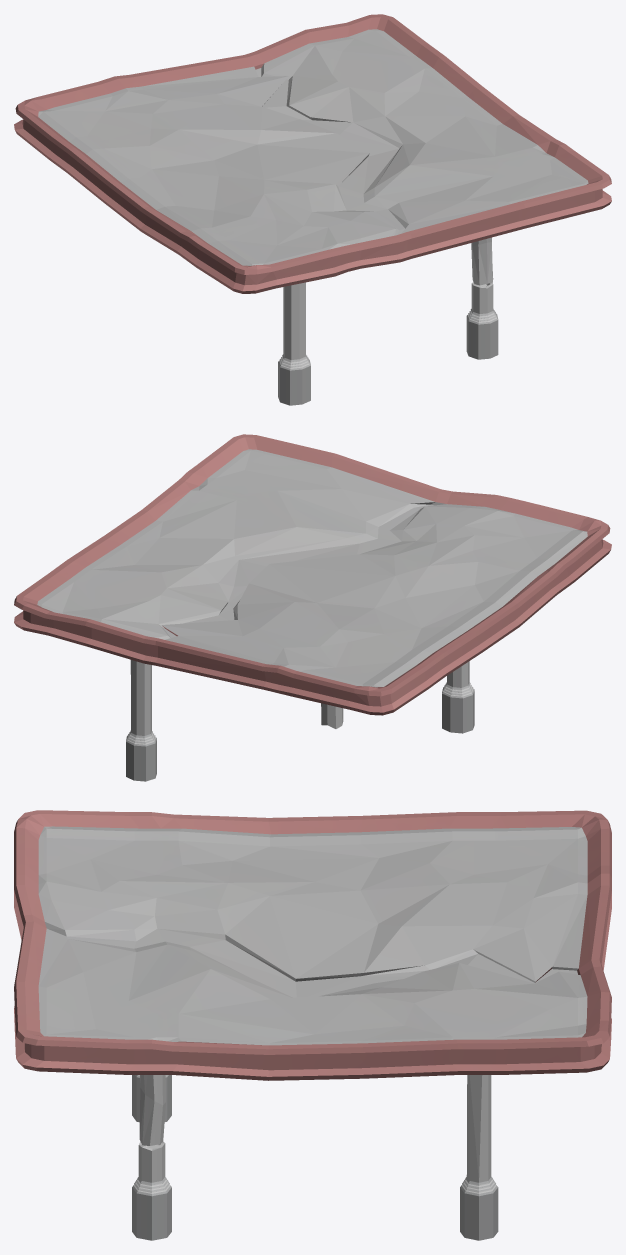
The model's file is gas_station_annex_roof_standing.obj.
3 renders of one model, top to bottom at view 1: azimuth 30°, elevation 25°; view 2: azimuth 150°, elevation 25°; view 3: azimuth 270°, elevation 25°, orthographic. The views are drawn at different scales.
Visible parts, largest first — view 1: gas_station_annex_roof_standing_Mesh; view 2: gas_station_annex_roof_standing_Mesh; view 3: gas_station_annex_roof_standing_Mesh.
Part boxes in pixels (x1,y1,x2,y2): gas_station_annex_roof_standing_Mesh: (14, 14, 611, 405); gas_station_annex_roof_standing_Mesh: (14, 434, 611, 781); gas_station_annex_roof_standing_Mesh: (14, 810, 611, 1240).
Bounding box in the file's own units: 9.92 × 4.76 × 10.63.
